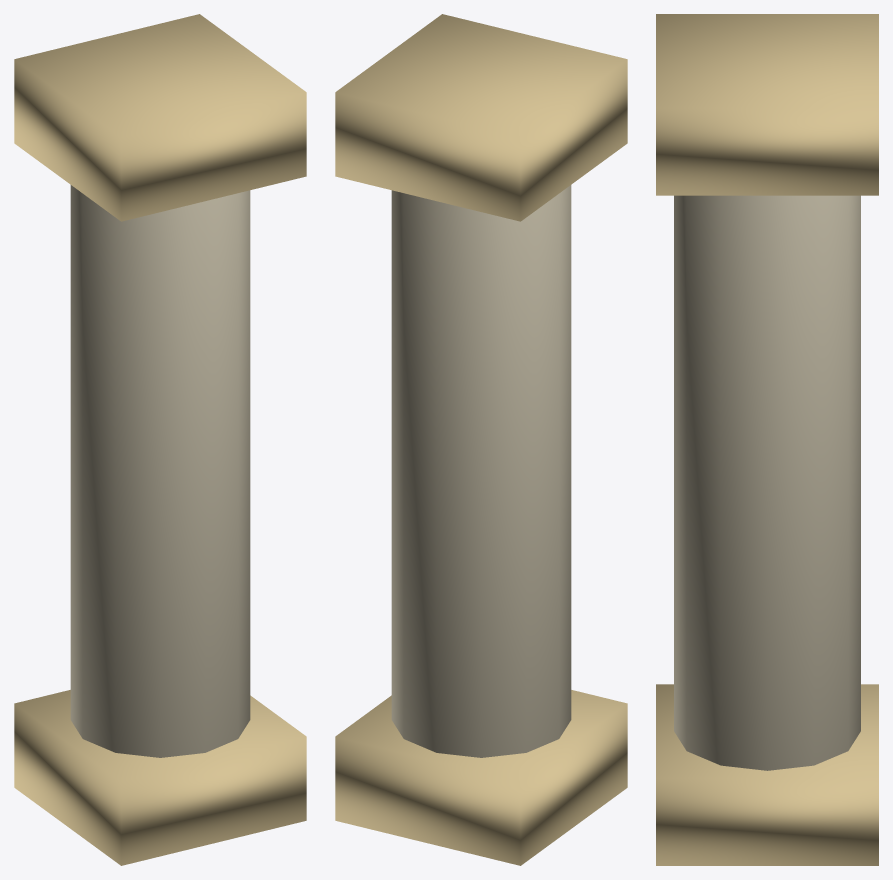
File: scene_4_temple_pillar.fbx
3 renders of one model, left to right at view 1: azimuth 30°, elevation 25°; view 2: azimuth 150°, elevation 25°; view 3: azimuth 270°, elevation 25°, orthographic. The views are drawn at different scales.
Parts seen in each view (by area): view 1: Cylinder, Cube_001, Cube; view 2: Cylinder, Cube_001, Cube; view 3: Cylinder, Cube_001, Cube.
Boxes of the visible parts, bbox=[...] form: Cylinder: bbox=[70, 185, 250, 757]; Cube_001: bbox=[14, 14, 306, 221]; Cube: bbox=[14, 690, 306, 865]; Cylinder: bbox=[391, 185, 571, 757]; Cube_001: bbox=[335, 14, 627, 221]; Cube: bbox=[335, 690, 627, 865]; Cylinder: bbox=[674, 195, 860, 770]; Cube_001: bbox=[656, 14, 878, 195]; Cube: bbox=[656, 684, 878, 865].
Bounding box in the file's own units: 2.39 × 8.96 × 2.39.
